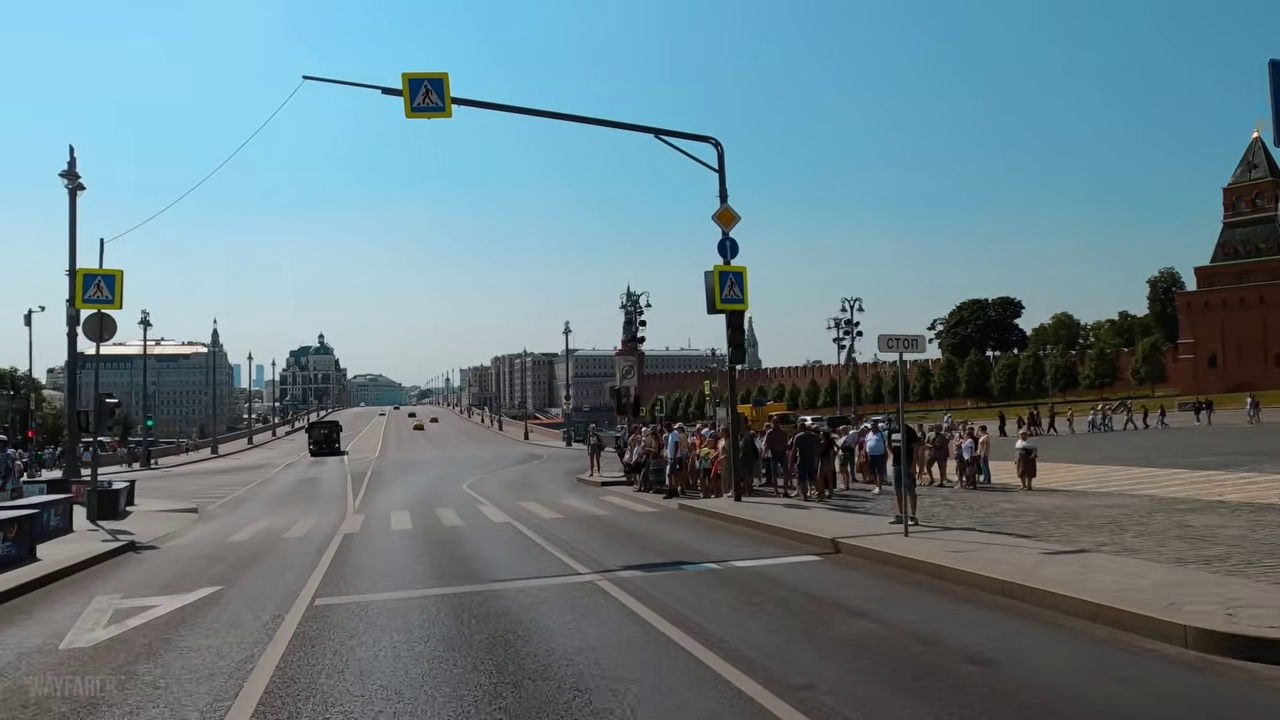apagada: (54, 159, 87, 198), (299, 67, 331, 91)
